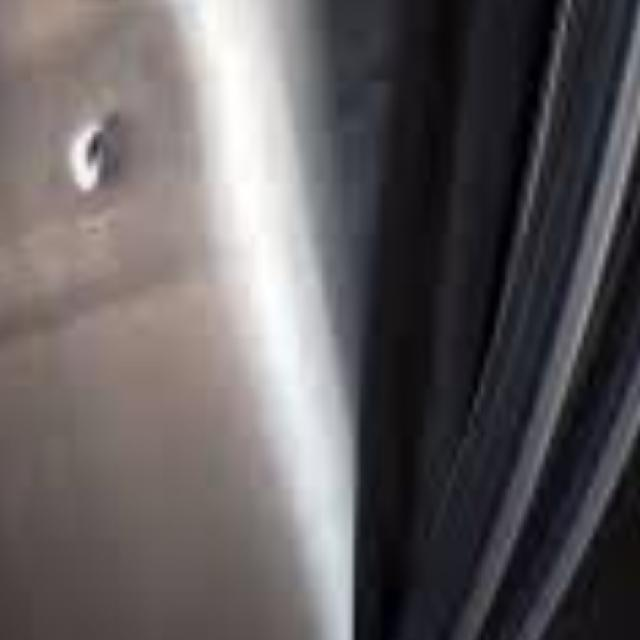dents: (43, 110, 167, 205)
